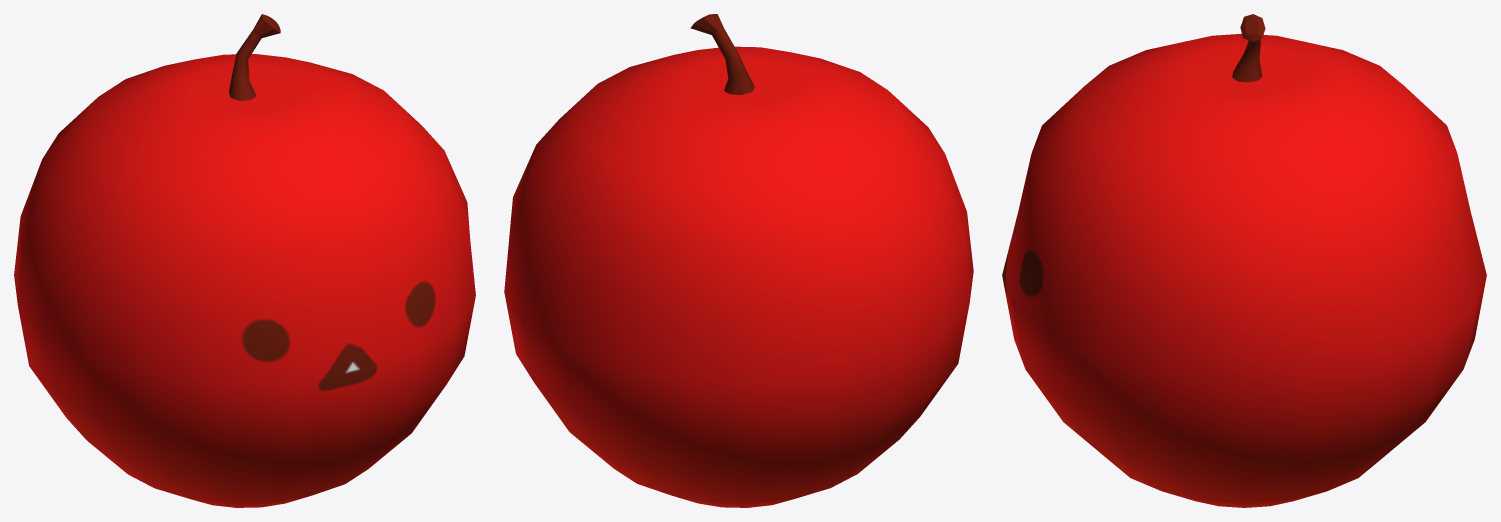
Rendered from Apple.fbx.
3 views of the same model, side by side, from view 1: azimuth 30°, elevation 25°; view 2: azimuth 150°, elevation 25°; view 3: azimuth 270°, elevation 25° (orthographic). The views are drawn at different scales.
Parts seen in each view (by area): view 1: Apple; view 2: Apple; view 3: Apple.
Part boxes in pixels (x1,y1,x2,y2): Apple: (14,14,475,507); Apple: (504,14,973,507); Apple: (1002,14,1486,507).
Bounding box in the file's own units: 9.28 × 10.05 × 9.28.
